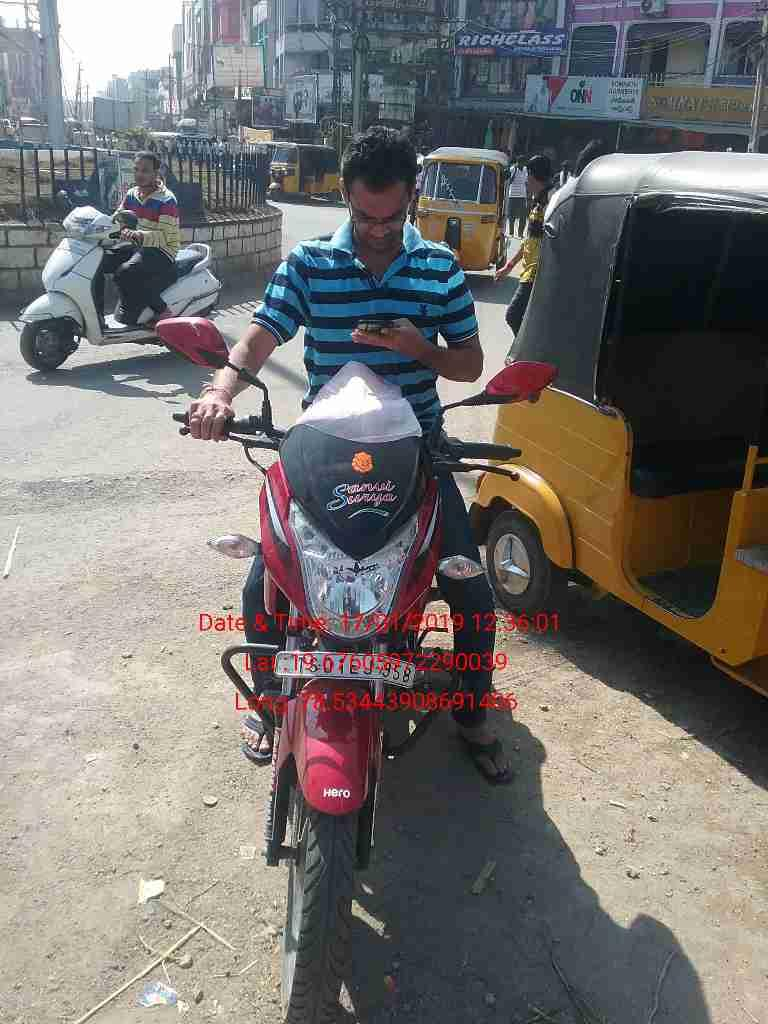plate: (271, 649, 425, 691)
